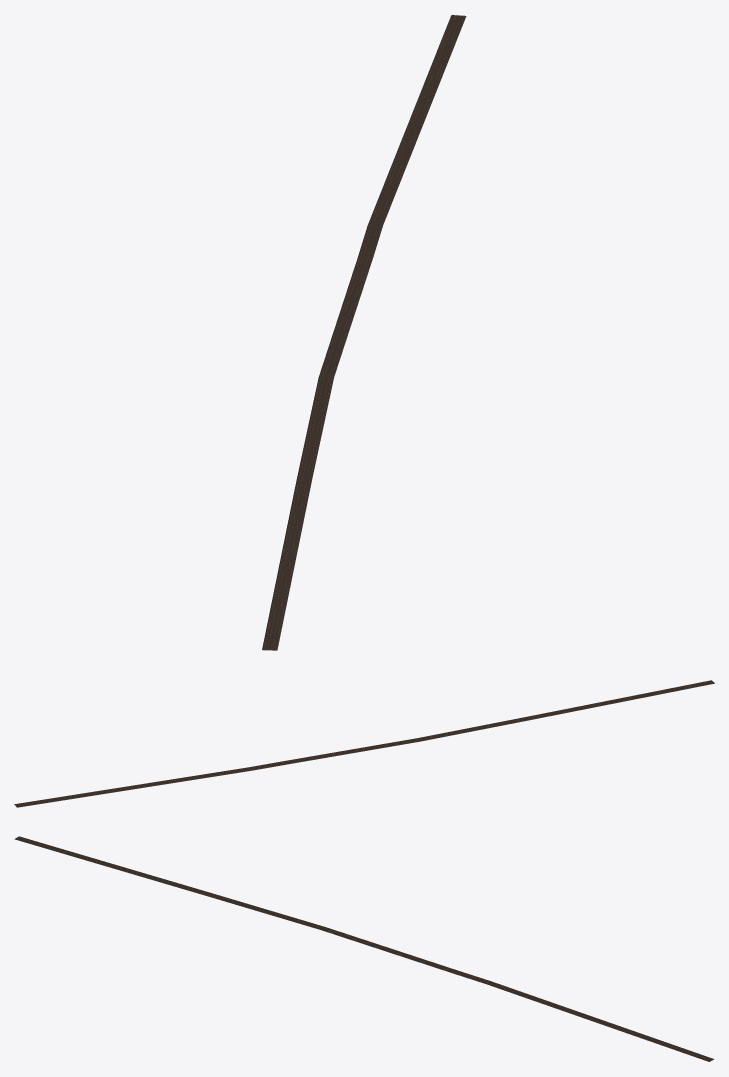
The model's file is kobe_0039.glb.
The picture shows the model from 3 angles, top to bottom: view 1: azimuth 30°, elevation 25°; view 2: azimuth 150°, elevation 25°; view 3: azimuth 270°, elevation 25°; orthographic projection. The views are drawn at different scales.
Visible parts, largest first — view 1: ballast_top, oxidised_rail_profiles; view 2: ballast_top, oxidised_rail_profiles, ballast_left; view 3: ballast_top, oxidised_rail_profiles.
Part boxes in pixels (x1,y1,x2,y2): ballast_top: (262,15,466,650); oxidised_rail_profiles: (264,15,464,649); ballast_top: (14,680,714,806); oxidised_rail_profiles: (15,680,712,806); ballast_left: (17,683,714,807); ballast_top: (14,836,714,1061); oxidised_rail_profiles: (15,836,713,1061).
Bounding box in the file's own units: 462 × 0.819 × 606.
Materials: 4 (3 with a texture image).
